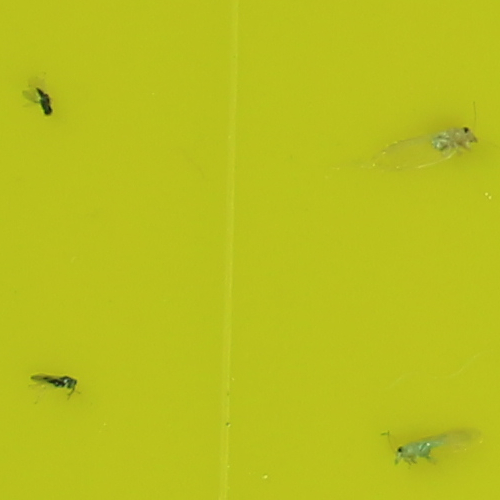Glycaspis: (432, 123, 482, 155), (392, 438, 435, 464)
Psyllaephagus: (43, 373, 78, 389), (37, 87, 54, 117)
